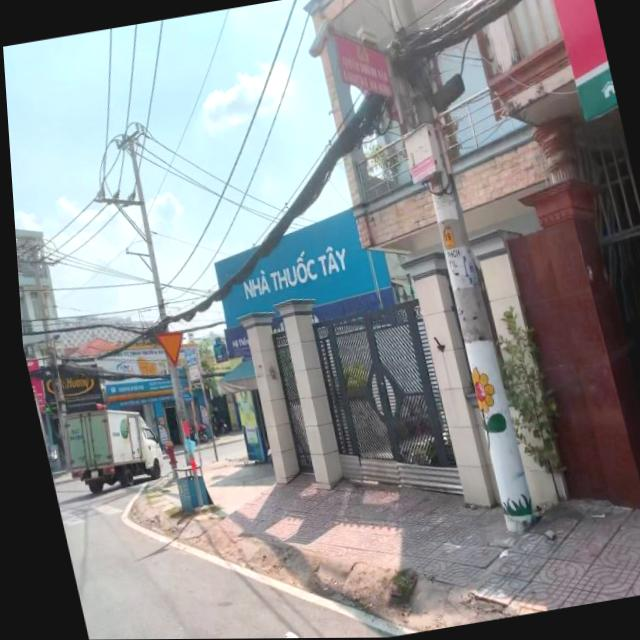Giao nhau voi duong uu tien: (147, 323, 189, 370)
